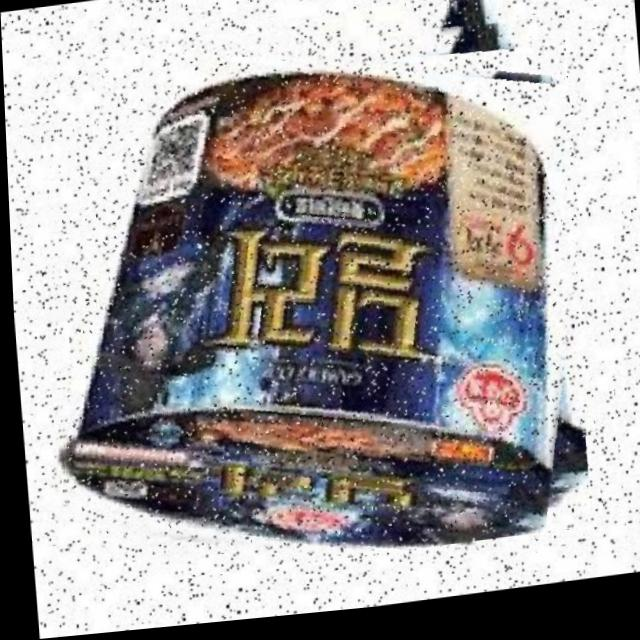Miscellaneous: (28, 2, 598, 594)
